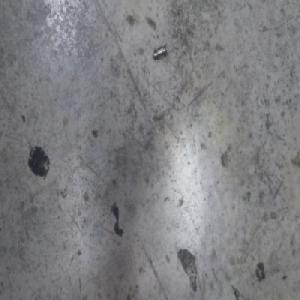Bolt: (152, 43, 168, 61)
